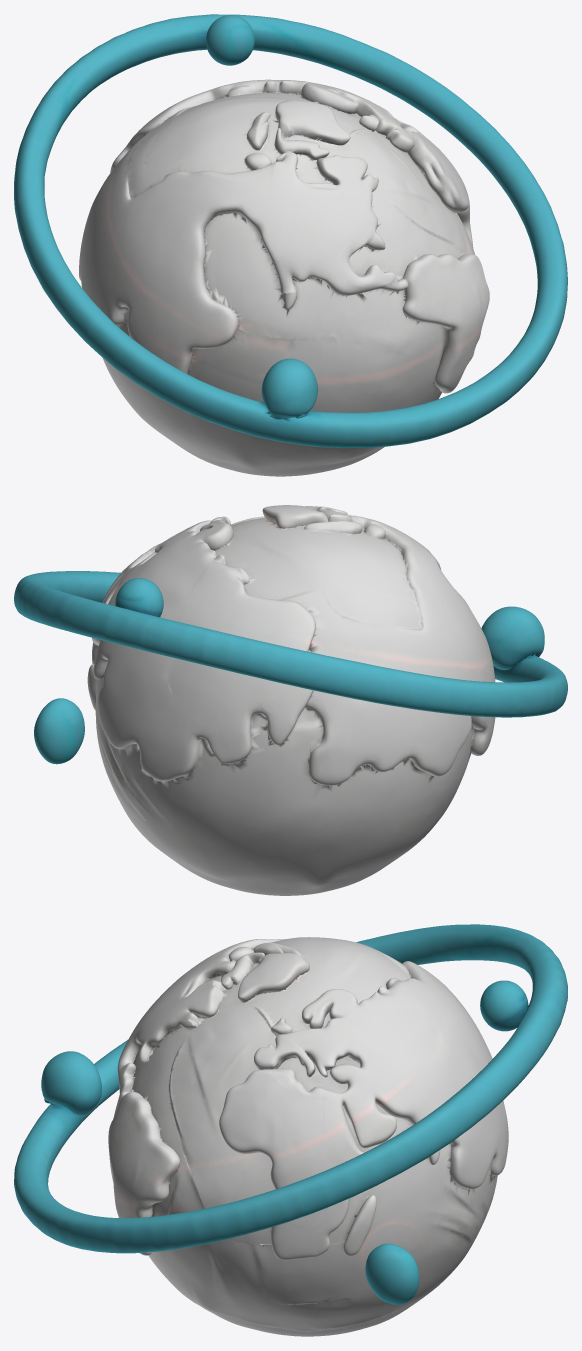
The model's file is step-3.glb.
3 views of the same model, one above another, from view 1: azimuth 30°, elevation 25°; view 2: azimuth 150°, elevation 25°; view 3: azimuth 270°, elevation 25° (orthographic).
Parts seen in each view (by area): view 1: tripo_node_76d0700a-6717-4be7-b5d1-e92e772f8c82; view 2: tripo_node_76d0700a-6717-4be7-b5d1-e92e772f8c82; view 3: tripo_node_76d0700a-6717-4be7-b5d1-e92e772f8c82.
Boxes of the visible parts, x1,y1,x2,y2 form: tripo_node_76d0700a-6717-4be7-b5d1-e92e772f8c82: (14, 14, 567, 476); tripo_node_76d0700a-6717-4be7-b5d1-e92e772f8c82: (14, 505, 567, 895); tripo_node_76d0700a-6717-4be7-b5d1-e92e772f8c82: (14, 924, 567, 1336).
Bounding box in the file's own units: 1.42 × 1 × 1.42.
Materials: 1 (1 with a texture image).
